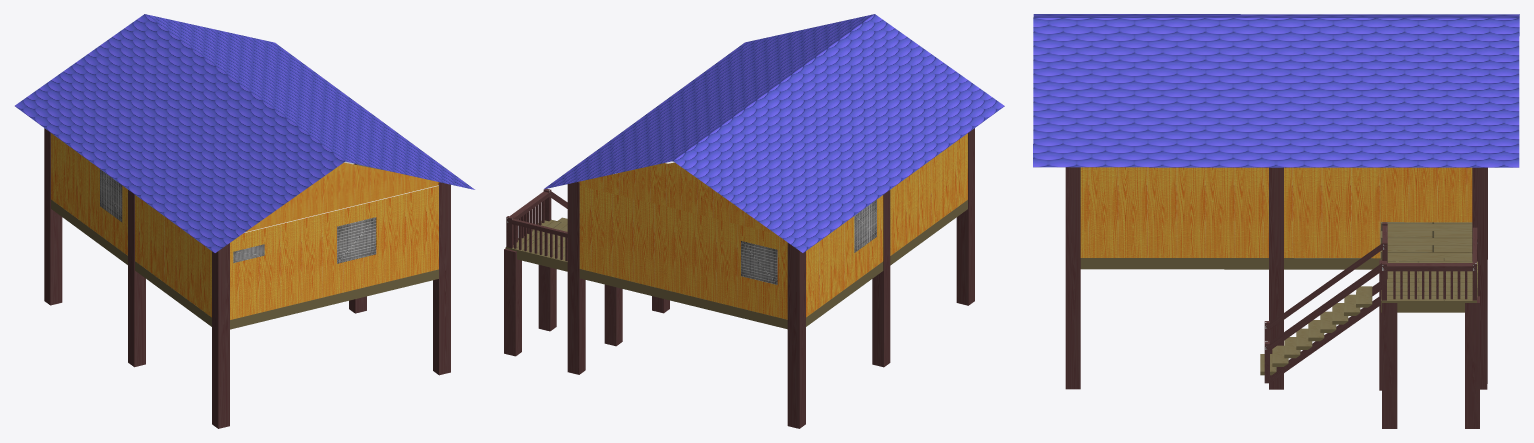
The model's file is cabañaplaya.obj.
3 renders of one model, left to right at view 1: azimuth 30°, elevation 25°; view 2: azimuth 150°, elevation 25°; view 3: azimuth 270°, elevation 25°, orthographic. The views are drawn at different scales.
Parts seen in each view (by area): view 1: Plane.000_Plane.001; view 2: Plane.000_Plane.001; view 3: Plane.000_Plane.001.
Part boxes in pixels (box(x1,y1,x2,y2)): Plane.000_Plane.001: box(15, 14, 474, 428); Plane.000_Plane.001: box(504, 14, 1004, 428); Plane.000_Plane.001: box(1033, 14, 1519, 428).
Size of the model in its own units: 59.2 by 44.67 by 65.36.
4 materials, 4 textured.
